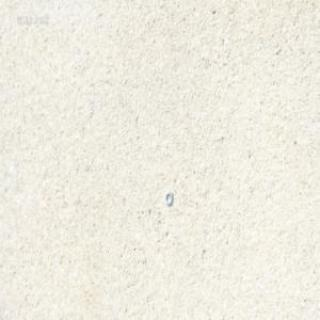Washertrack_idkeyframe: (164, 190, 172, 206)
